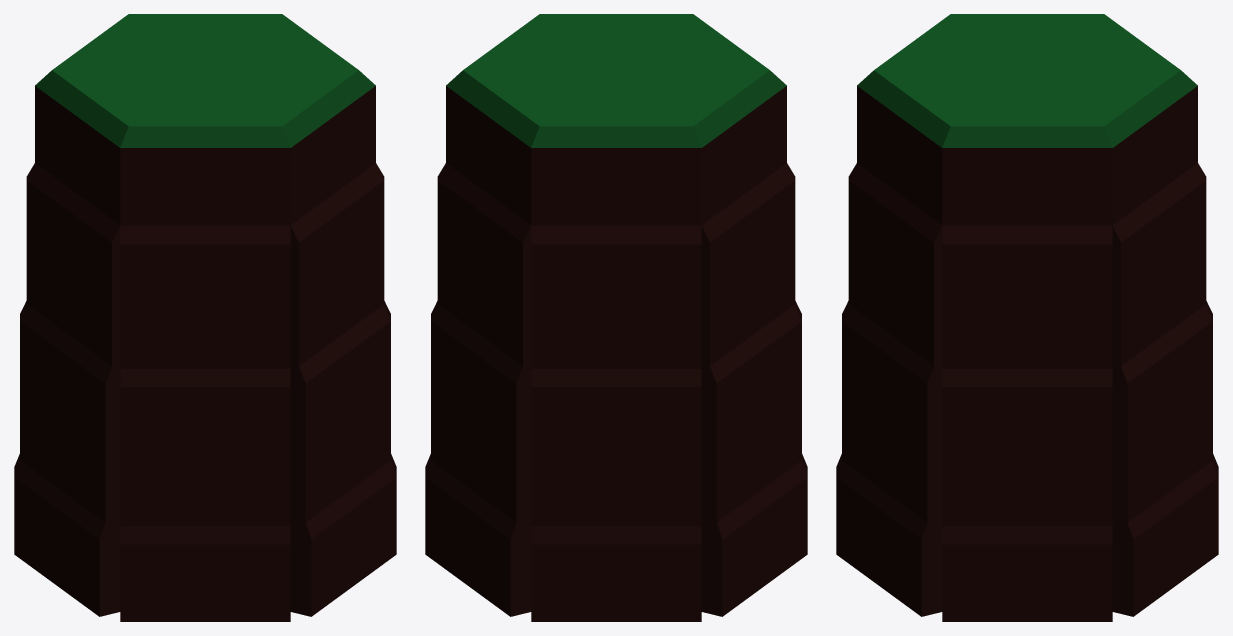
The model's file is Grass H3.fbx.
3 renders of one model, left to right at view 1: azimuth 30°, elevation 25°; view 2: azimuth 150°, elevation 25°; view 3: azimuth 270°, elevation 25°, orthographic.
Visible parts, largest first — view 1: Grass H3; view 2: Grass H3; view 3: Grass H3.
Boxes of the visible parts, box(x1,y1,x2,y2) form: Grass H3: box(14, 14, 396, 621); Grass H3: box(425, 14, 807, 621); Grass H3: box(836, 14, 1218, 621).
Bounding box in the file's own units: 201 × 310 × 224.
